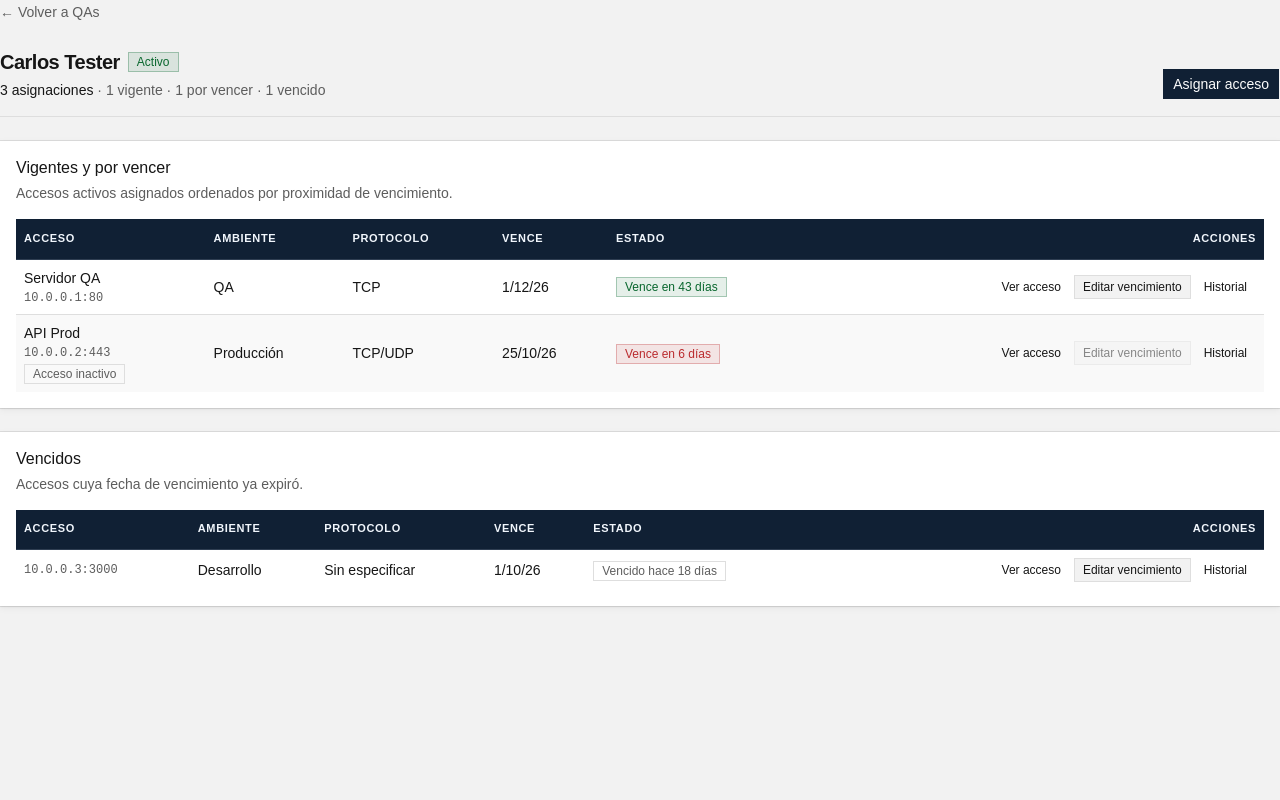
AccessesQaDetailPage › abre diálogo de edición y recarga al guardar
Expected: the heading "Carlos Tester" is shown, [0, 48, 120, 76]
Step 1. Click the button with aria-label "Editar vencimiento de 10.0.0.1:80" → {"x": 1132, "y": 286}, box [1074, 274, 1191, 298]
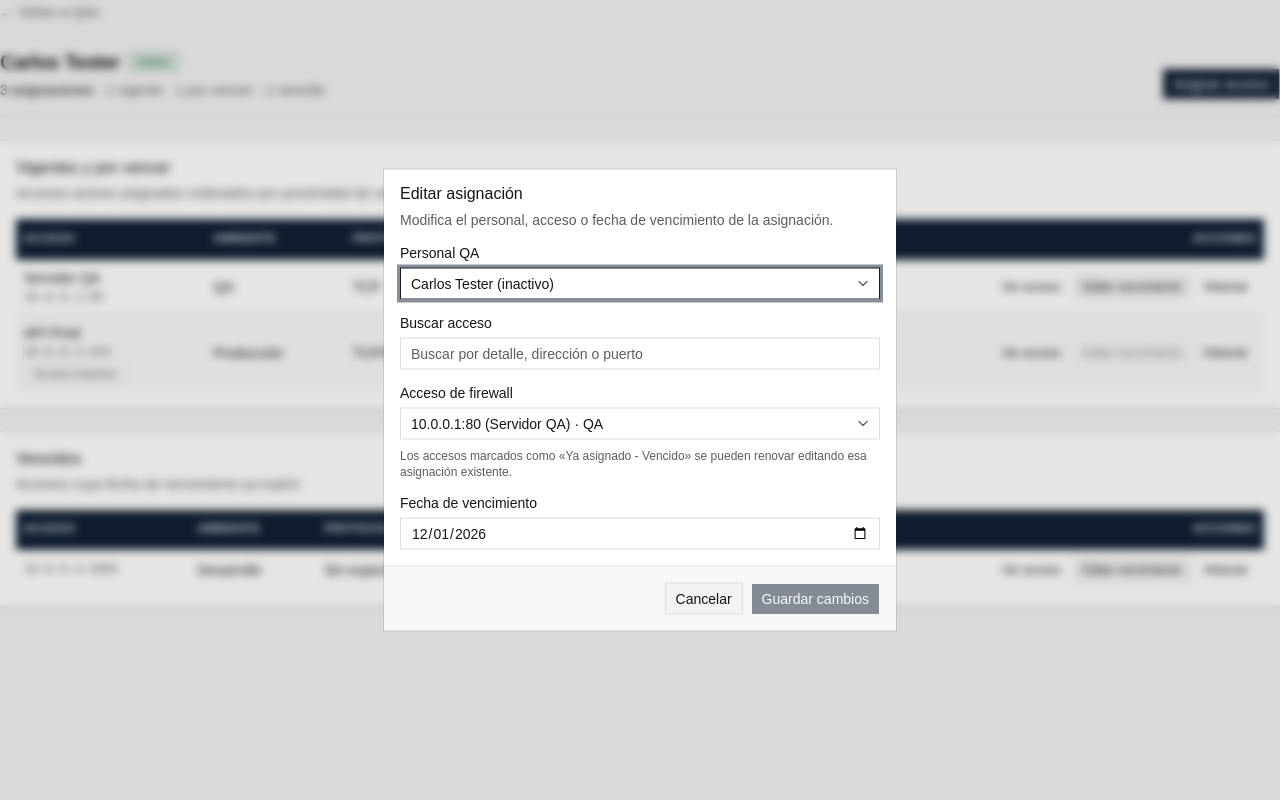
Now the dialog is shown, box [384, 170, 896, 630]
Now the heading "Editar asignación" is shown, box [400, 184, 523, 202]
